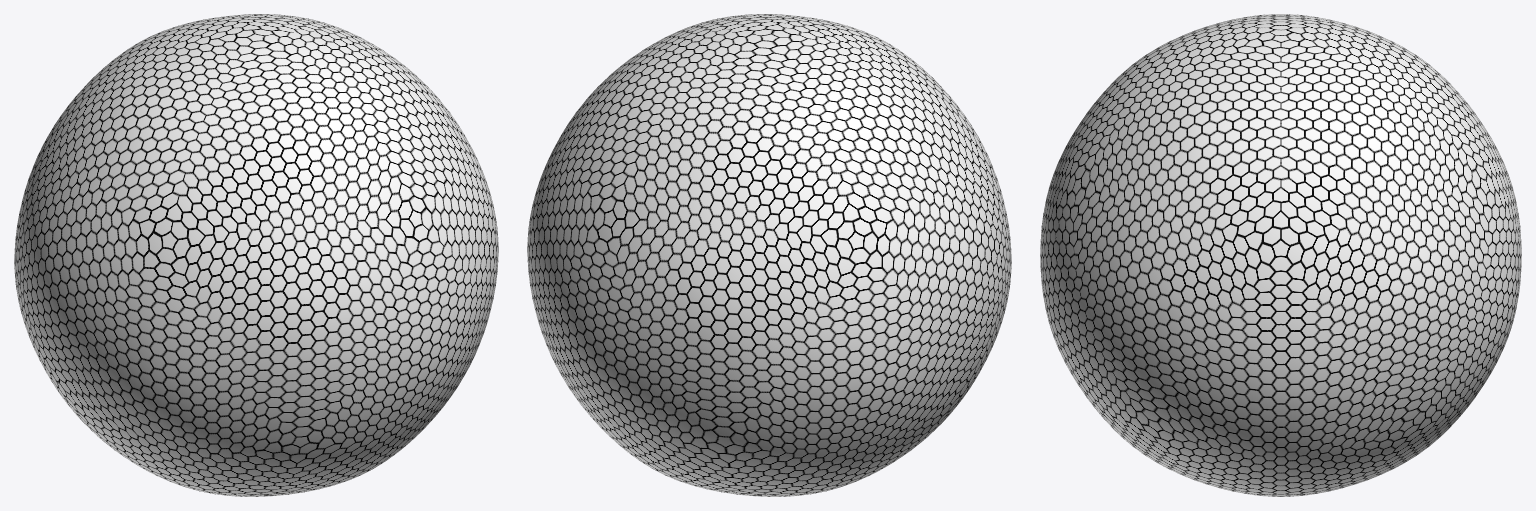
The model's file is MappedIcoSphere.fbx.
3 views of the same model, side by side, from view 1: azimuth 30°, elevation 25°; view 2: azimuth 150°, elevation 25°; view 3: azimuth 270°, elevation 25° (orthographic).
Visible parts, largest first — view 1: Icosphere.006; view 2: Icosphere.006; view 3: Icosphere.006.
Part boxes in pixels (x1,y1,x2,y2): Icosphere.006: [14, 14, 498, 496]; Icosphere.006: [527, 14, 1011, 496]; Icosphere.006: [1040, 14, 1521, 496].
Size of the model in its own units: 150 by 149 by 148.
